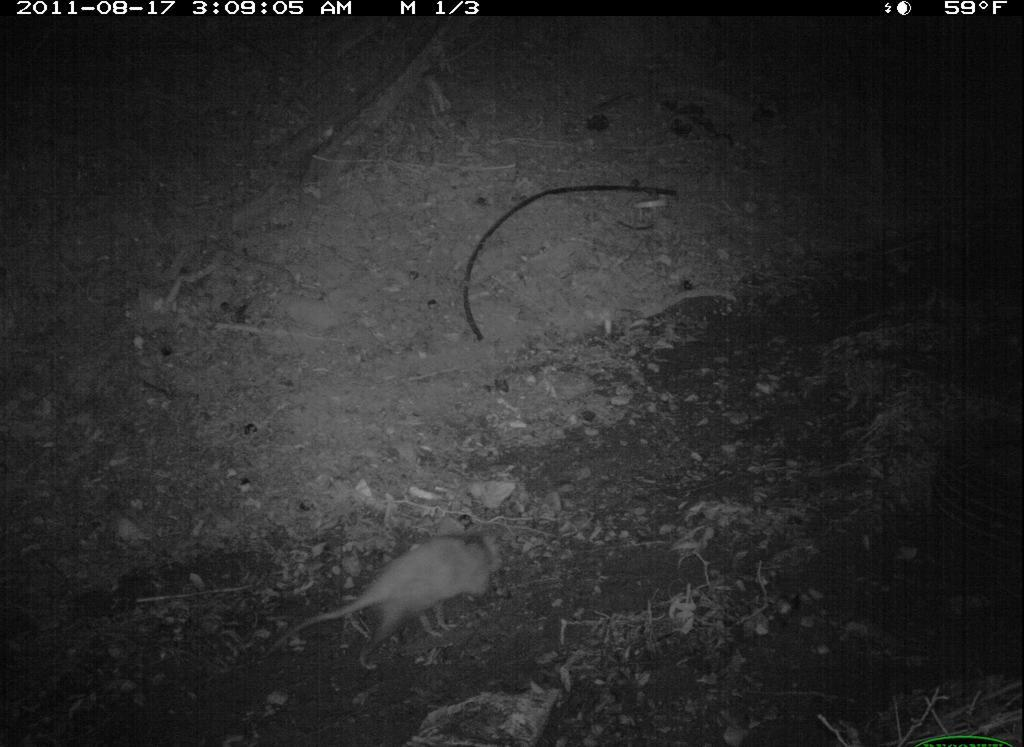opossum: (257, 519, 524, 680)
